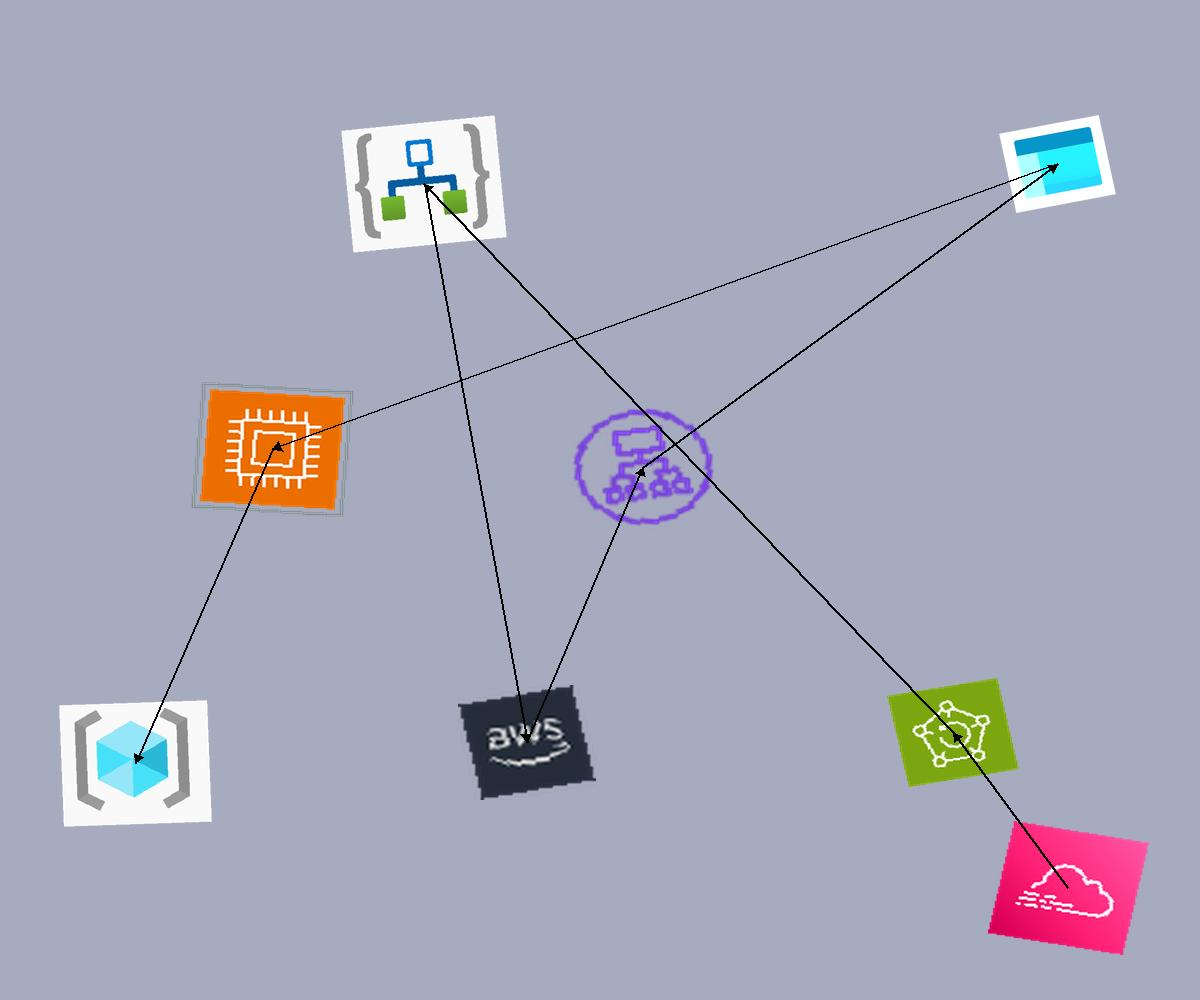AWS-Backup: (886, 677, 1020, 788)
AWS-Category_Compute: (190, 381, 355, 518)
AWS-Cloud-logo: (458, 685, 596, 800)
AWS-CloudTrail: (988, 821, 1149, 955)
AWS-Res_Elastic-Load-Balancing_Application-Load-Balancer: (556, 394, 731, 540)
Azure_integration-204-Logic-Apps: (341, 115, 507, 253)
Azure_management-portal: (999, 115, 1116, 213)
Azure_resource_group: (59, 700, 212, 827)
